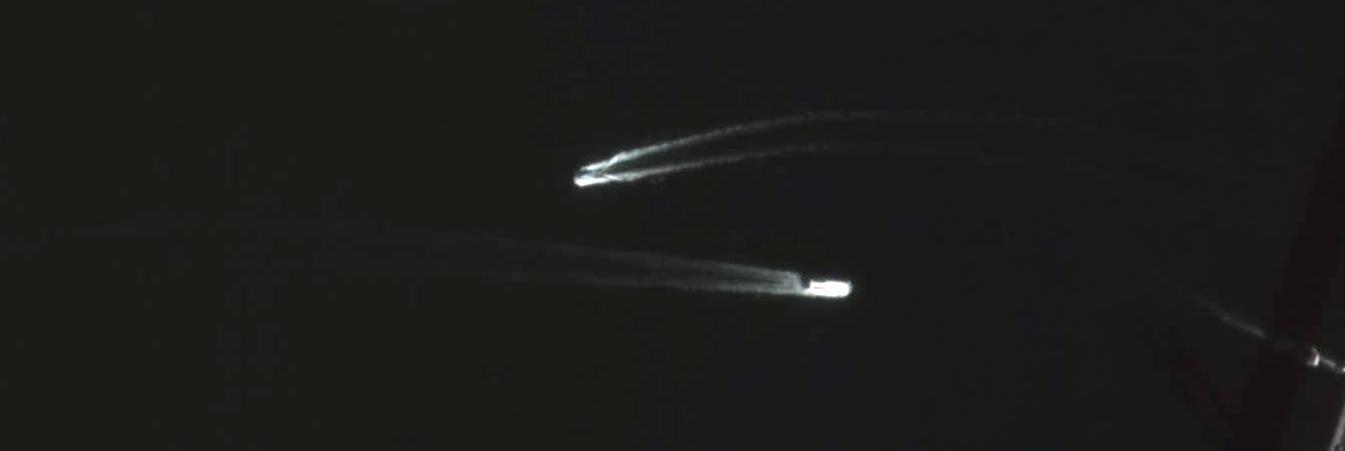person: (808, 280, 851, 297), (573, 168, 598, 181)
